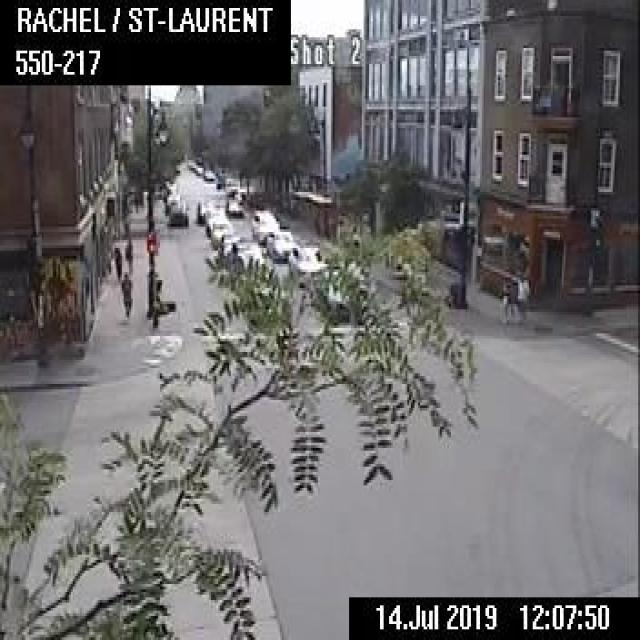pedestrian: (515, 271, 531, 320), (501, 272, 513, 321), (120, 270, 132, 317), (113, 242, 121, 278), (124, 237, 132, 270)
vehicle: (319, 262, 370, 320), (231, 239, 267, 282), (287, 244, 324, 284), (250, 206, 279, 242), (264, 229, 297, 258), (218, 232, 243, 264), (210, 218, 232, 246), (166, 200, 188, 225), (195, 199, 215, 221), (224, 196, 243, 218)
